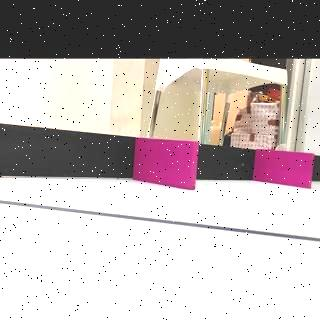xparking: (138, 141, 196, 188), (258, 150, 313, 186)
